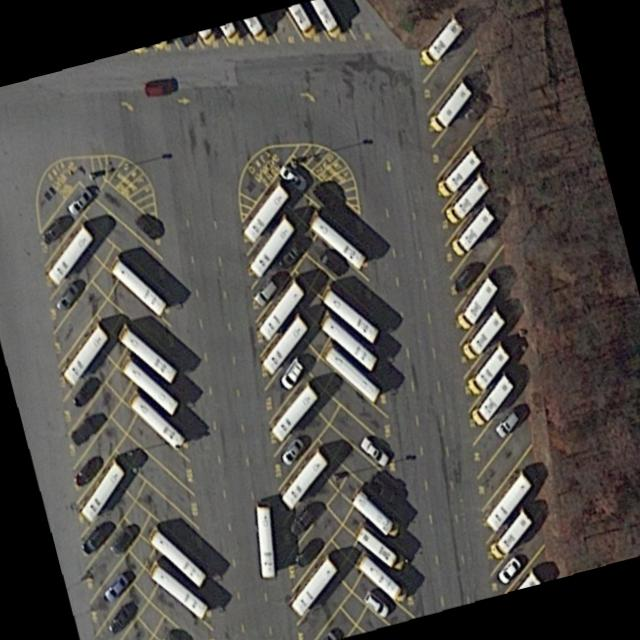large-vehicle: (320, 336, 384, 404), (106, 250, 169, 319), (285, 544, 342, 620), (146, 520, 207, 590), (146, 555, 210, 621), (125, 386, 187, 453), (319, 277, 380, 345), (306, 202, 366, 271), (114, 318, 177, 382), (117, 350, 178, 416), (317, 307, 378, 371), (244, 209, 297, 280), (277, 438, 328, 511), (57, 314, 108, 387), (253, 270, 305, 339), (76, 451, 124, 525), (266, 374, 319, 441), (240, 173, 290, 243), (256, 312, 309, 377), (44, 217, 93, 286), (354, 545, 411, 604), (482, 465, 532, 532), (347, 485, 403, 541), (424, 73, 474, 134), (468, 367, 515, 429), (463, 335, 511, 395), (352, 520, 407, 572), (441, 169, 491, 226), (485, 502, 535, 559), (458, 302, 505, 362), (454, 269, 499, 330), (418, 9, 464, 67), (449, 199, 495, 257), (435, 143, 483, 197), (253, 499, 276, 579), (78, 512, 117, 555)
small-vehicle: (66, 405, 110, 450), (107, 512, 143, 558), (71, 448, 108, 490), (104, 593, 140, 636), (293, 528, 328, 571), (369, 472, 406, 510), (131, 204, 164, 245), (446, 259, 479, 300), (70, 369, 102, 411), (62, 183, 95, 222), (275, 234, 308, 272), (357, 433, 390, 471), (277, 352, 308, 391), (276, 158, 309, 194), (317, 242, 348, 280), (52, 276, 81, 316), (284, 502, 314, 540), (494, 552, 524, 587), (491, 407, 520, 441), (278, 433, 306, 468), (39, 213, 67, 247), (143, 71, 175, 100), (251, 275, 279, 308), (363, 587, 391, 619), (101, 572, 129, 604), (162, 627, 183, 640)
